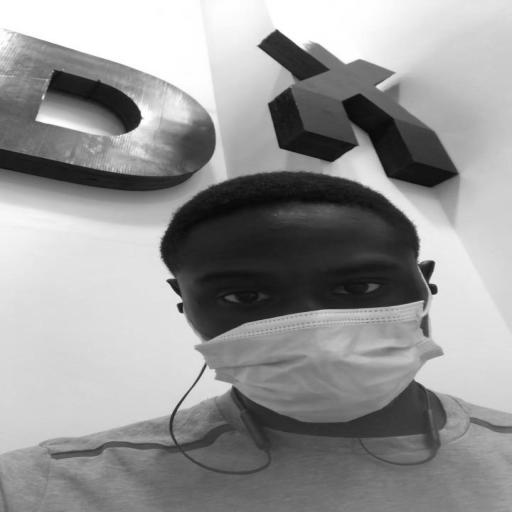mask: (175, 228, 444, 424)
